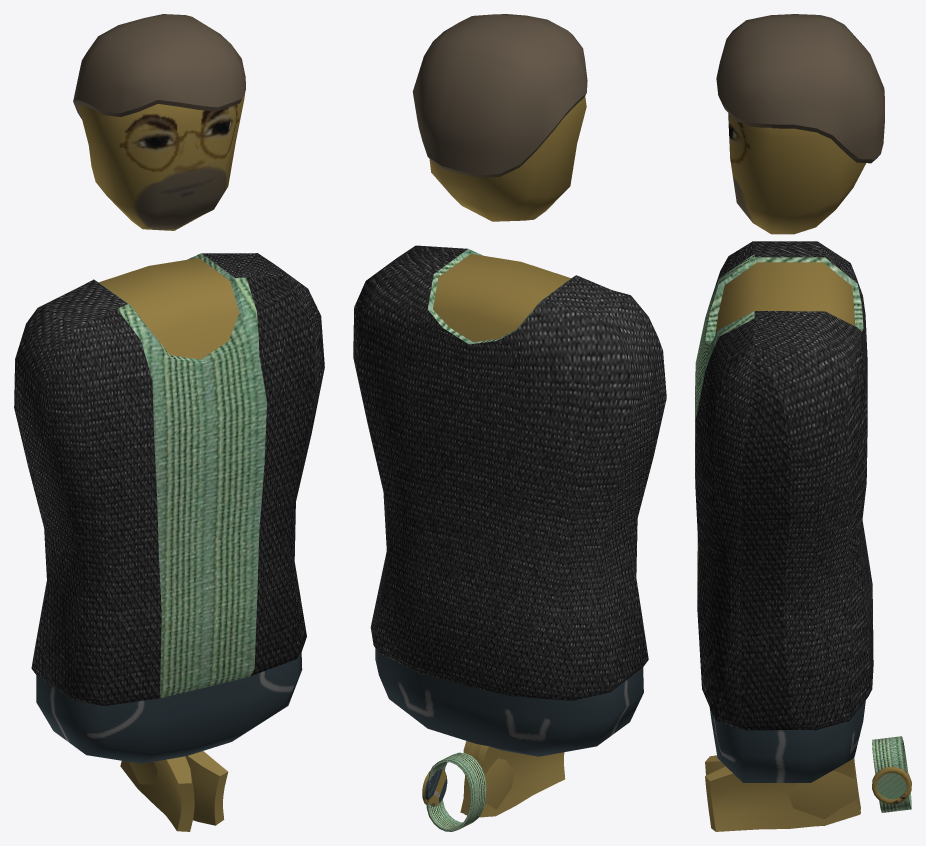
The model's file is Avatar5.fbx.
3 renders of one model, left to right at view 1: azimuth 30°, elevation 25°; view 2: azimuth 150°, elevation 25°; view 3: azimuth 270°, elevation 25°, orthographic. The views are drawn at different scales.
Parts seen in each view (by area): view 1: Body5, Head5, Hair5, HandL, HandR; view 2: Body5, Hair5, Head5, HandL, Watch, HandR; view 3: Body5, Hair5, Head5, HandR, Watch, HandL.
Boxes of the visible parts, bbox=[...] form: Body5: bbox=[14, 253, 324, 763]; Head5: bbox=[79, 92, 245, 230]; Hair5: bbox=[73, 14, 245, 118]; HandL: bbox=[120, 756, 194, 831]; HandR: bbox=[129, 751, 228, 825]; Body5: bbox=[353, 245, 666, 756]; Hair5: bbox=[412, 14, 587, 177]; Head5: bbox=[429, 96, 586, 221]; HandL: bbox=[463, 743, 565, 817]; Watch: bbox=[422, 752, 486, 831]; HandR: bbox=[460, 741, 514, 816]; Body5: bbox=[695, 241, 873, 782]; Hair5: bbox=[716, 14, 884, 163]; Head5: bbox=[728, 113, 866, 234]; HandR: bbox=[705, 758, 860, 831]; Watch: bbox=[872, 736, 911, 812]; HandL: bbox=[705, 755, 860, 826].
Bounding box in the file's own units: 0.4646 × 1.25 × 0.3088.
4 materials, 2 textured.
